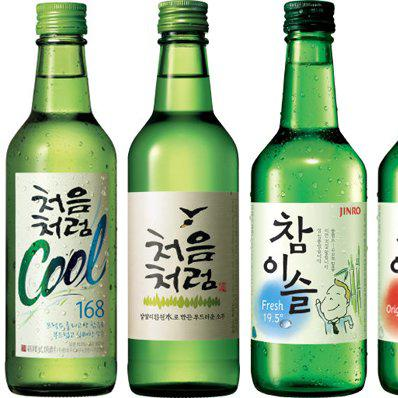soju: (4, 2, 370, 395)
